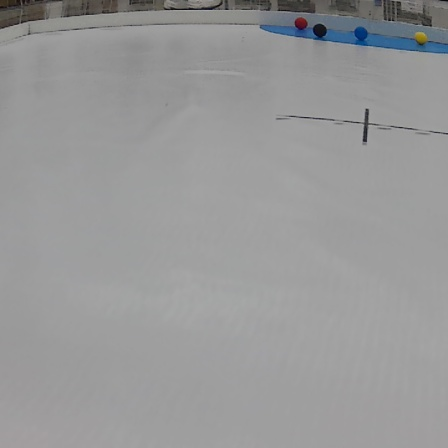black: (312, 21, 329, 37)
blue: (354, 26, 371, 41)
blue_base: (258, 23, 447, 55)
red: (295, 15, 307, 31)
yellow: (413, 30, 432, 45)
